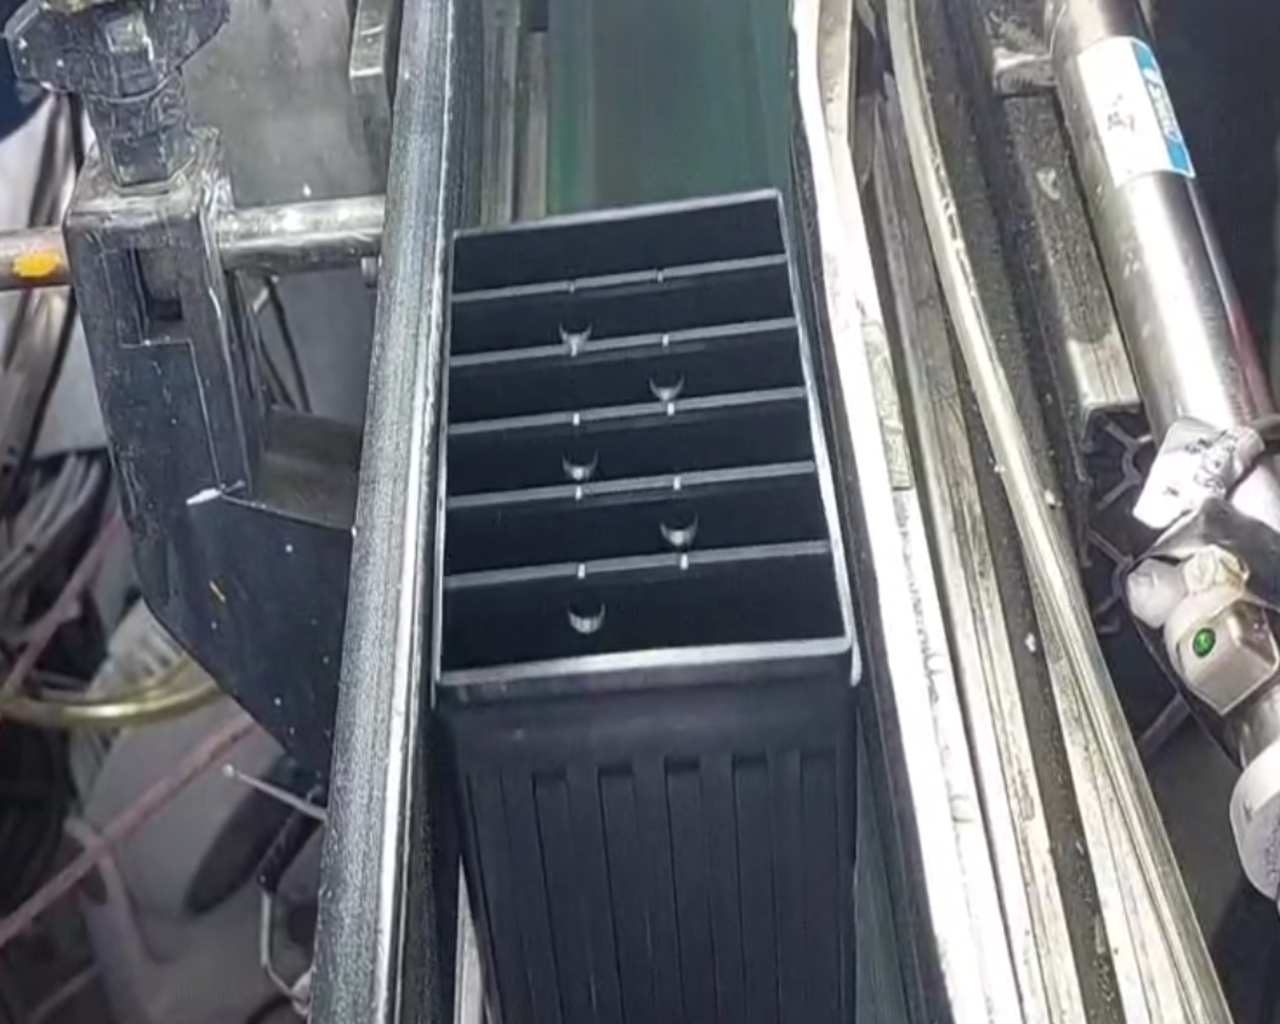box: (411, 174, 890, 709)
round: (636, 489, 715, 553), (548, 583, 623, 644), (546, 425, 612, 487), (631, 351, 698, 410), (546, 303, 602, 349)
